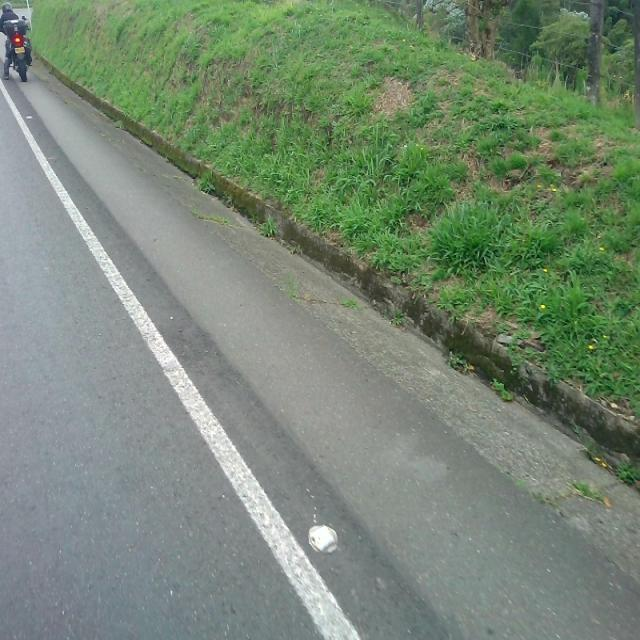DITCH: (2, 45, 638, 638), (1, 133, 639, 638)
